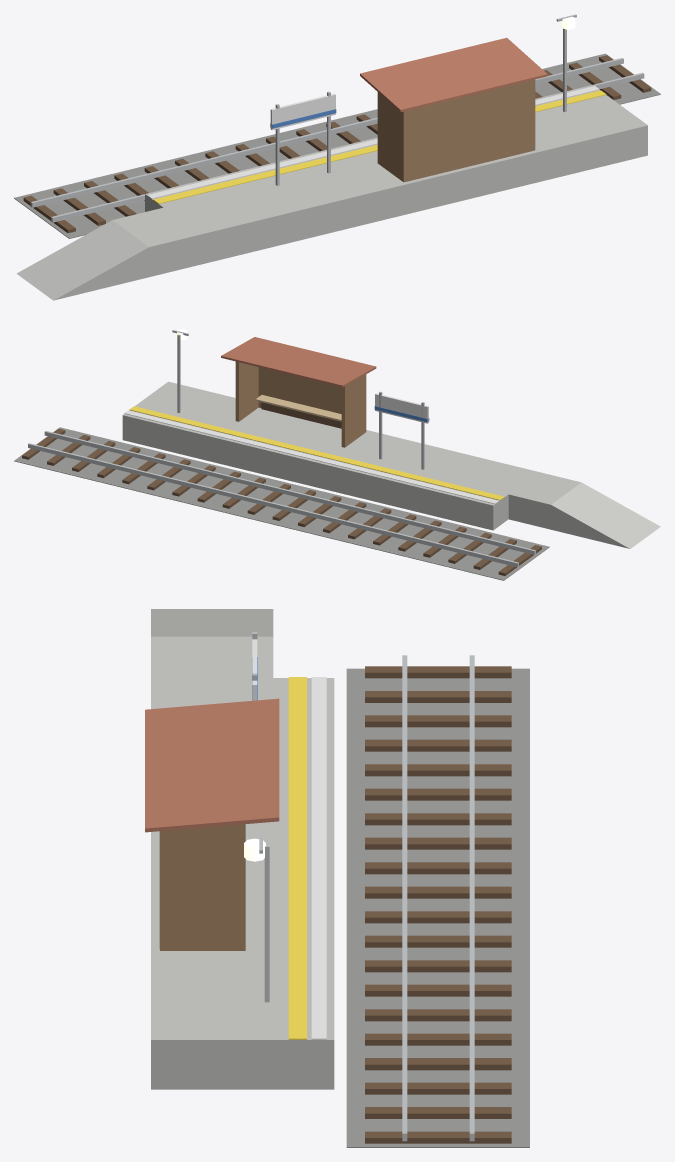
Rendered from eki.glb.
3 renders of one model, top to bottom at view 1: azimuth 30°, elevation 25°; view 2: azimuth 150°, elevation 25°; view 3: azimuth 270°, elevation 25°, orthographic. The views are drawn at different scales.
Visible parts, largest first — view 1: eki; view 2: eki; view 3: eki.
Part boxes in pixels (<box>): eki: <box>14,14,660,300</box>; eki: <box>14,329,660,580</box>; eki: <box>145,609,529,1147</box>.
Bounding box in the file's own units: 20.85 × 3.76 × 6.3.
